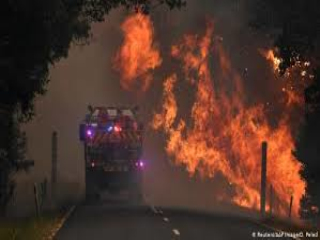fire: (175, 77, 306, 203), (106, 19, 167, 88)
